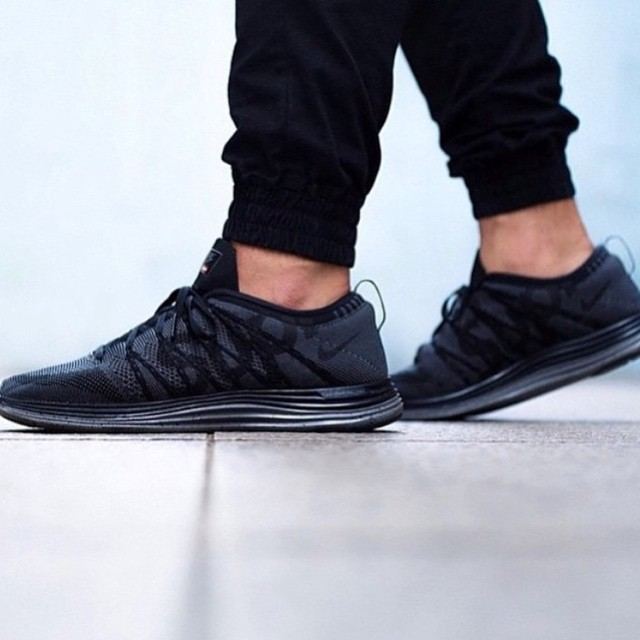sneaker: (1, 228, 421, 451), (375, 192, 640, 437)
